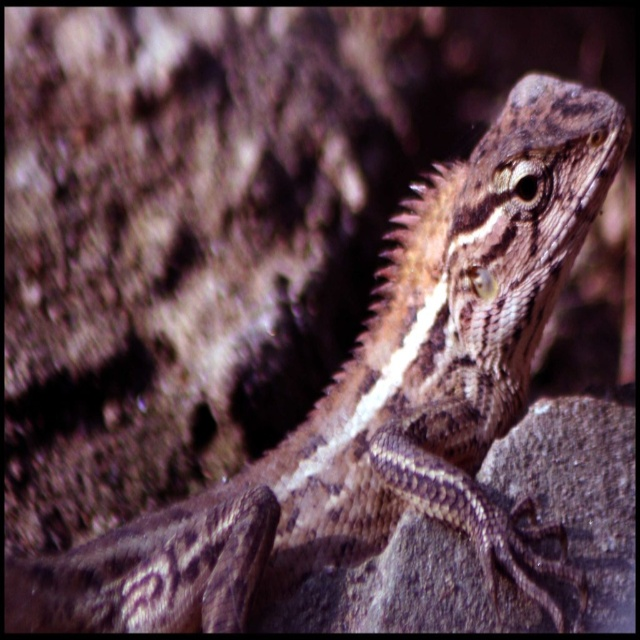Lizard: (6, 67, 629, 634)
